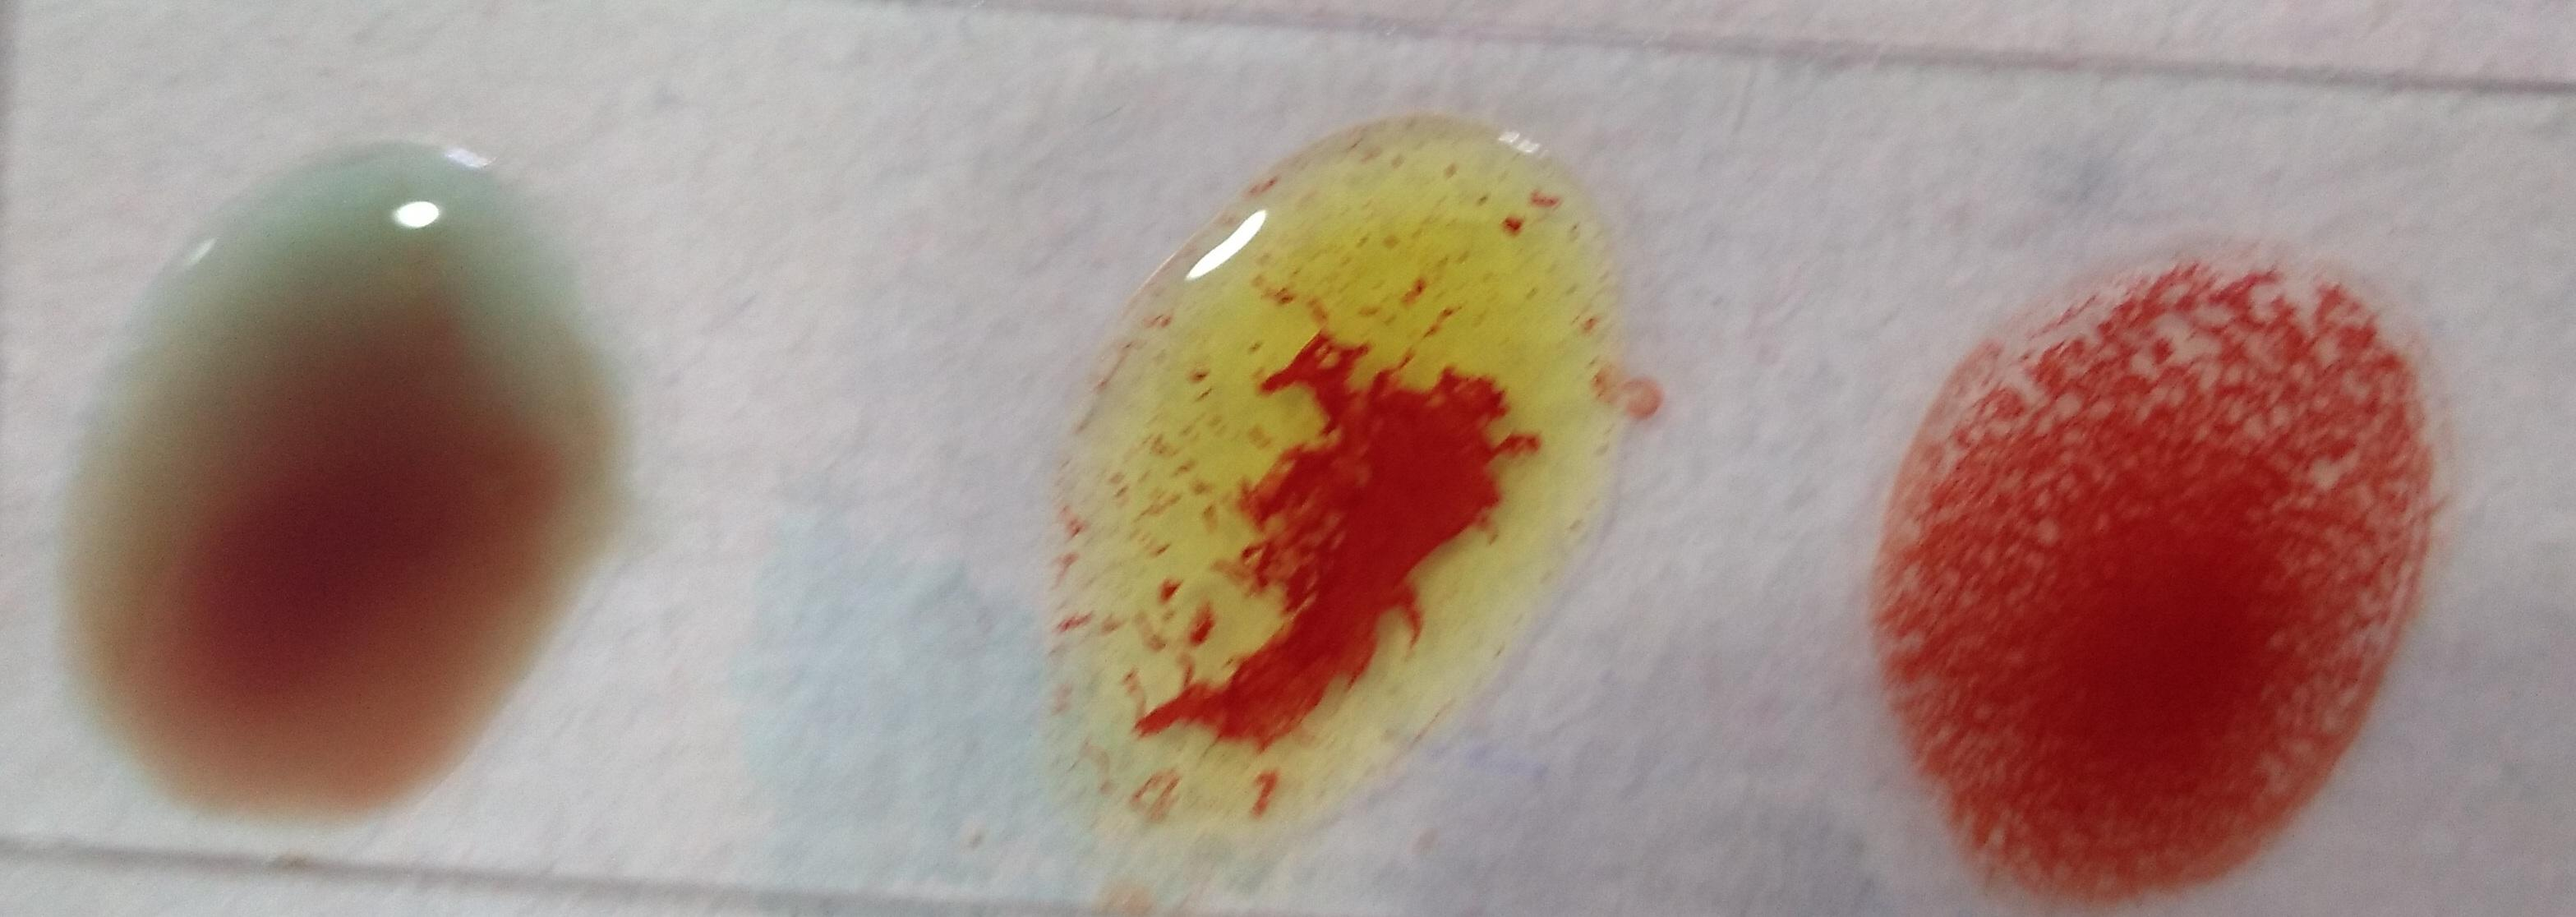B: (1045, 123, 1633, 874)
D: (1860, 238, 2438, 915)
